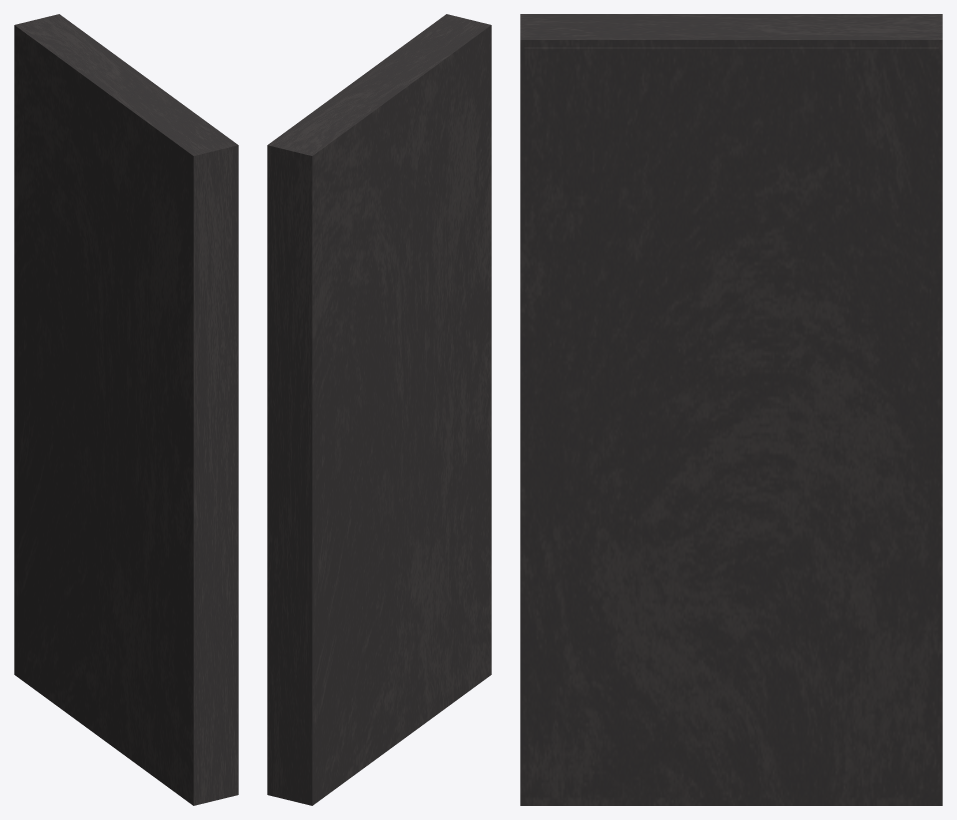
Rendered from budas_siena.fbx.
3 renders of one model, left to right at view 1: azimuth 30°, elevation 25°; view 2: azimuth 150°, elevation 25°; view 3: azimuth 270°, elevation 25°, orthographic. The views are drawn at different scales.
Visible parts, largest first — view 1: Cube.001; view 2: Cube.001; view 3: Cube.001.
Part boxes in pixels (left/top/right/bottom): Cube.001: left=14, top=14, right=238, bottom=805; Cube.001: left=267, top=14, right=491, bottom=805; Cube.001: left=520, top=14, right=942, bottom=805.
Bounding box in the file's own units: 60 × 800 × 400.
1 material, 1 textured.
